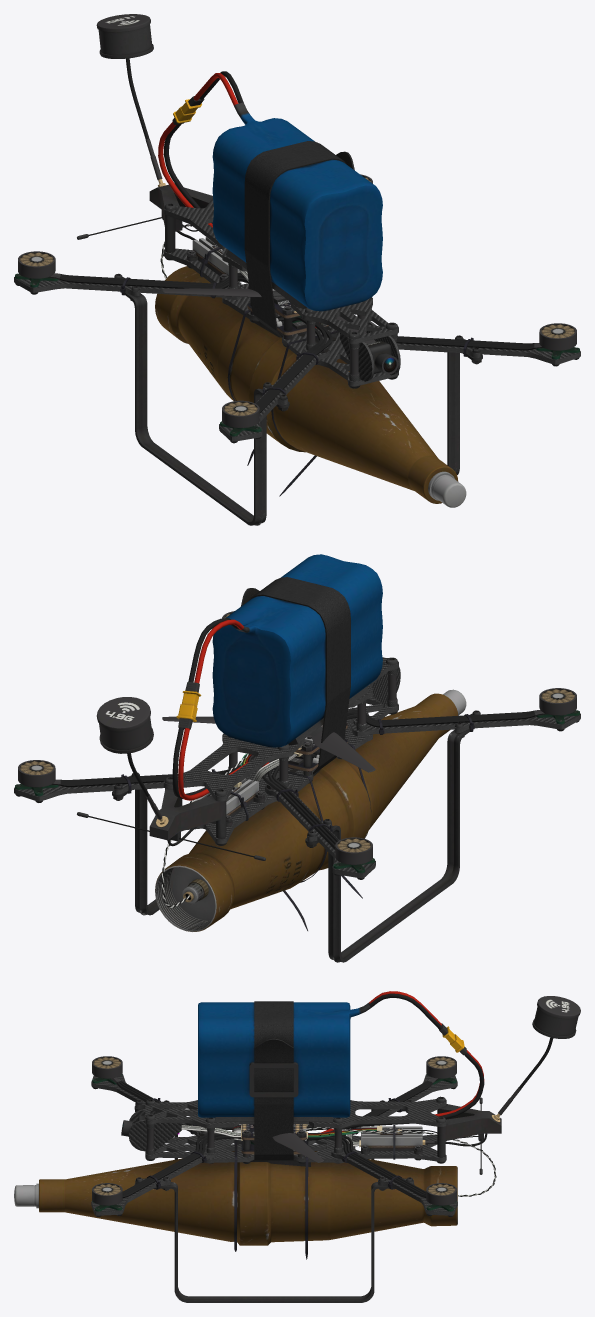
File: kamikazeDrone.glb
3 renders of one model, top to bottom at view 1: azimuth 30°, elevation 25°; view 2: azimuth 150°, elevation 25°; view 3: azimuth 270°, elevation 25°, orthographic. The views are drawn at different scales.
Visible parts, largest first — view 1: Drone, Object_6.003; view 2: Drone, Object_6.003; view 3: Drone, Object_6.003.
Part boxes in pixels (x1=…): Drone: x1=14, y1=14, x2=580, y2=525; Object_6.003: x1=162, y1=288, x2=375, y2=344; Drone: x1=14, y1=554, x2=580, y2=962; Object_6.003: x1=162, y1=716, x2=375, y2=772; Drone: x1=14, y1=991, x2=580, y2=1302; Object_6.003: x1=250, y1=1124, x2=323, y2=1162.
Bounding box in the file's own units: 0.3123 × 0.2915 × 0.5344.
Materials: 2 (1 with a texture image).
